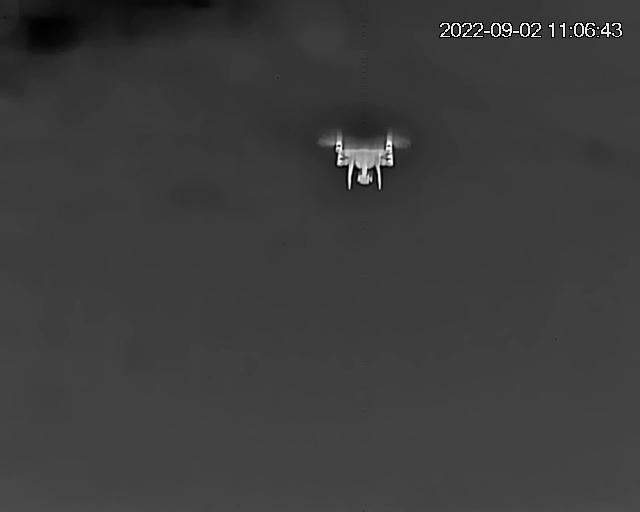DJI-Phantom: (318, 129, 412, 192)
